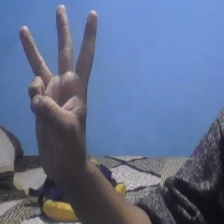W: (13, 2, 102, 184)
